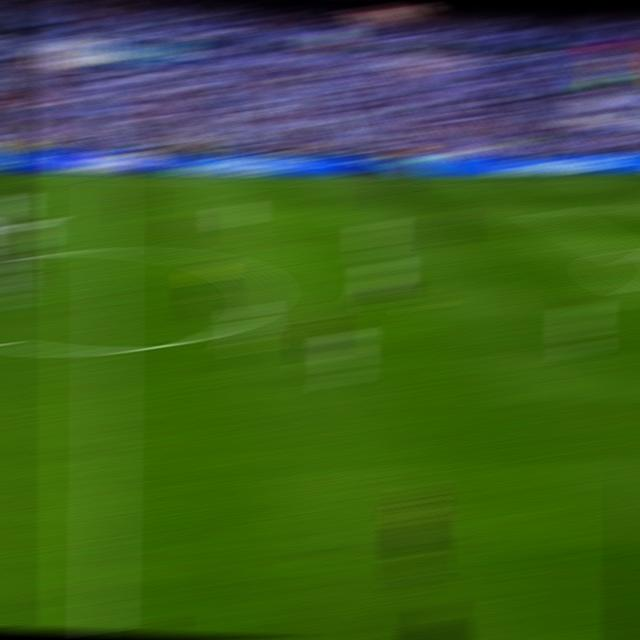halfcircle_bottom: (91, 337, 122, 362)
halfcircle_top: (92, 240, 122, 262)
top_arc_area_intersection: (604, 242, 630, 255)
